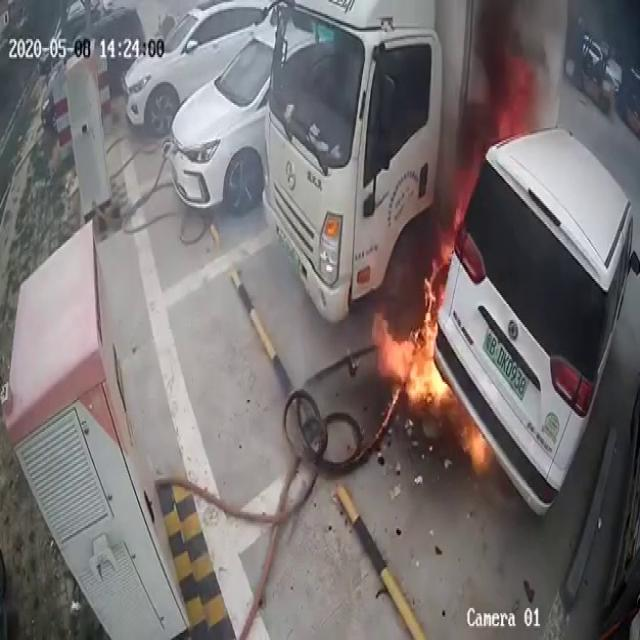Fire: (378, 263, 451, 413)
Smoke: (434, 1, 556, 182)
